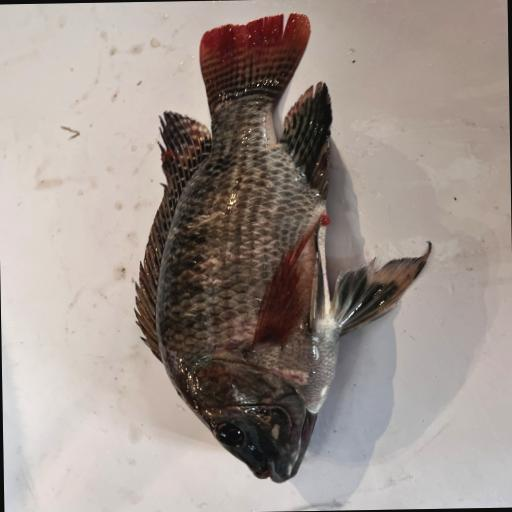Tilapia: (129, 10, 436, 486)
